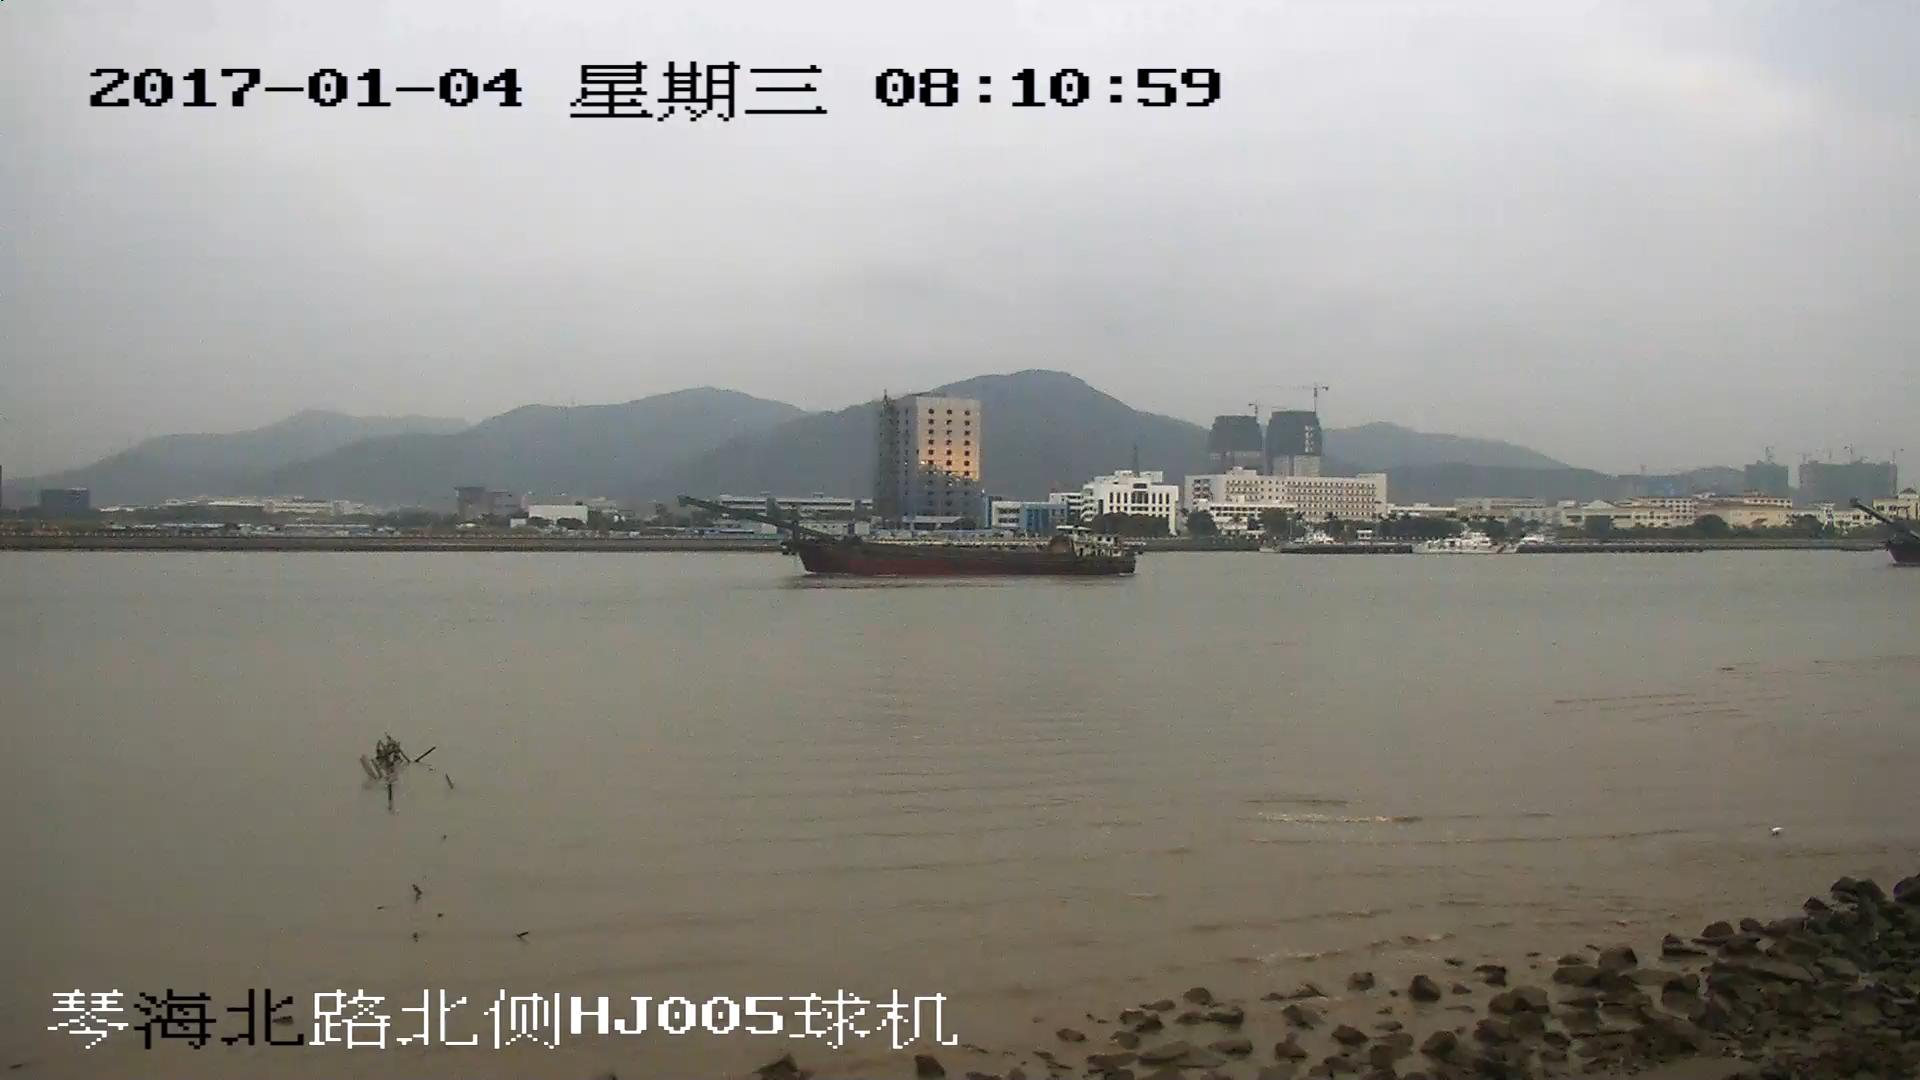Ship: (683, 501, 1135, 574)
